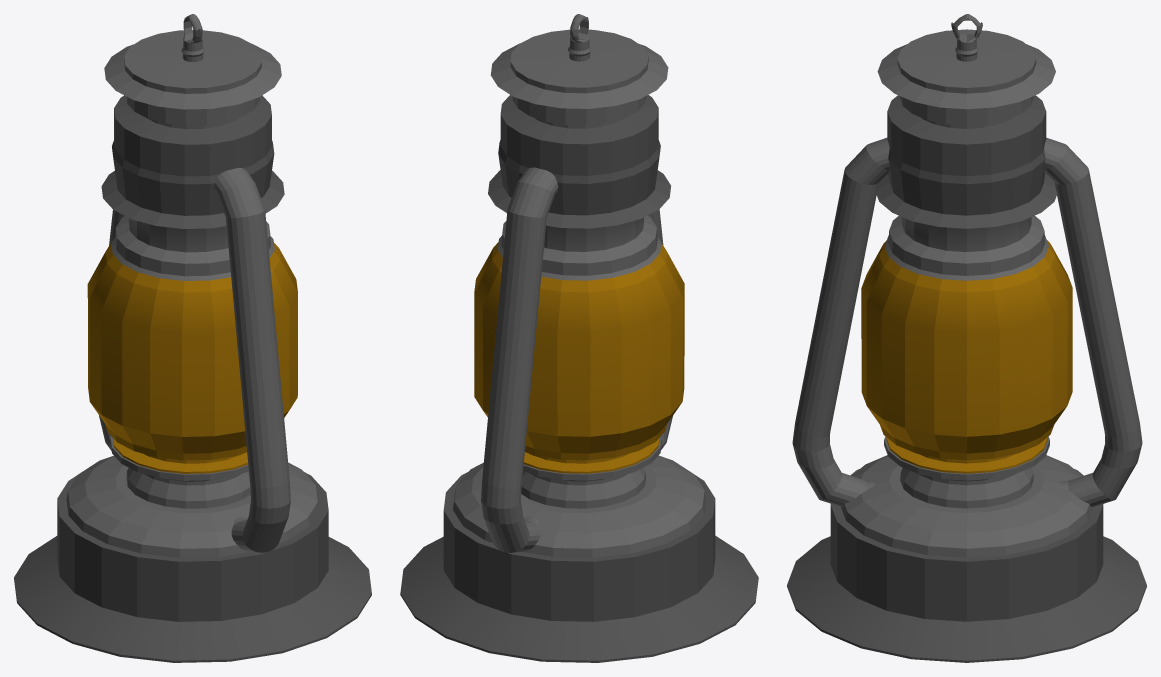
Rendered from TT_Lantern_WithoutHandle.fbx.
3 views of the same model, side by side, from view 1: azimuth 30°, elevation 25°; view 2: azimuth 150°, elevation 25°; view 3: azimuth 270°, elevation 25° (orthographic).
Parts seen in each view (by area): view 1: lantern; view 2: lantern; view 3: lantern.
Boxes of the visible parts, bbox=[...] form: lantern: bbox=[14, 14, 371, 662]; lantern: bbox=[400, 14, 758, 662]; lantern: bbox=[787, 14, 1146, 662].
Size of the model in its own units: 28.26 by 49.61 by 28.26.
